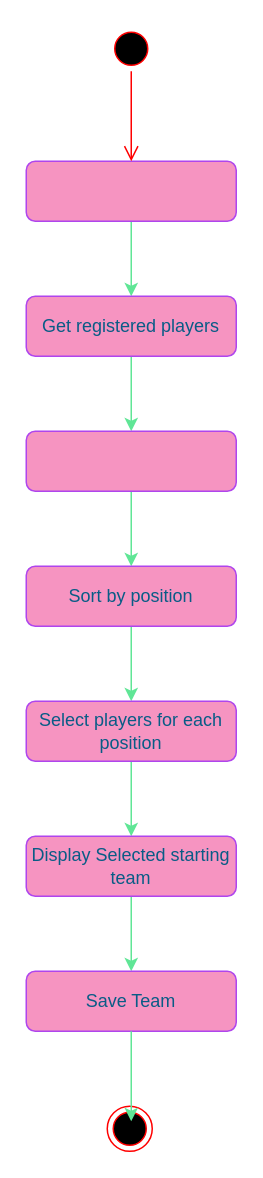
This 263x1178 diagram has some shape labels left out. The shapes that lost their labels are listed below. From the top down, each one's box as (x1, y1, x2, y2) in pixels, then its label:
(25, 160, 236, 221): Start team selection
(25, 430, 236, 491): Check Availability
